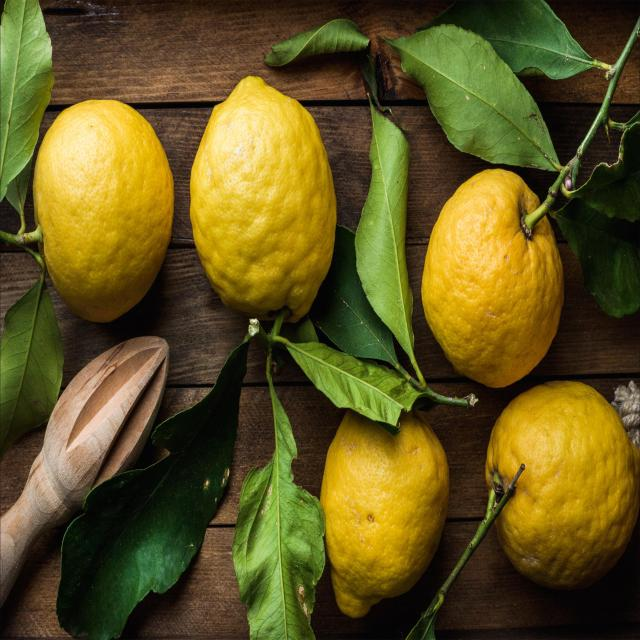lemon: (185, 70, 338, 351), (415, 164, 568, 394)
